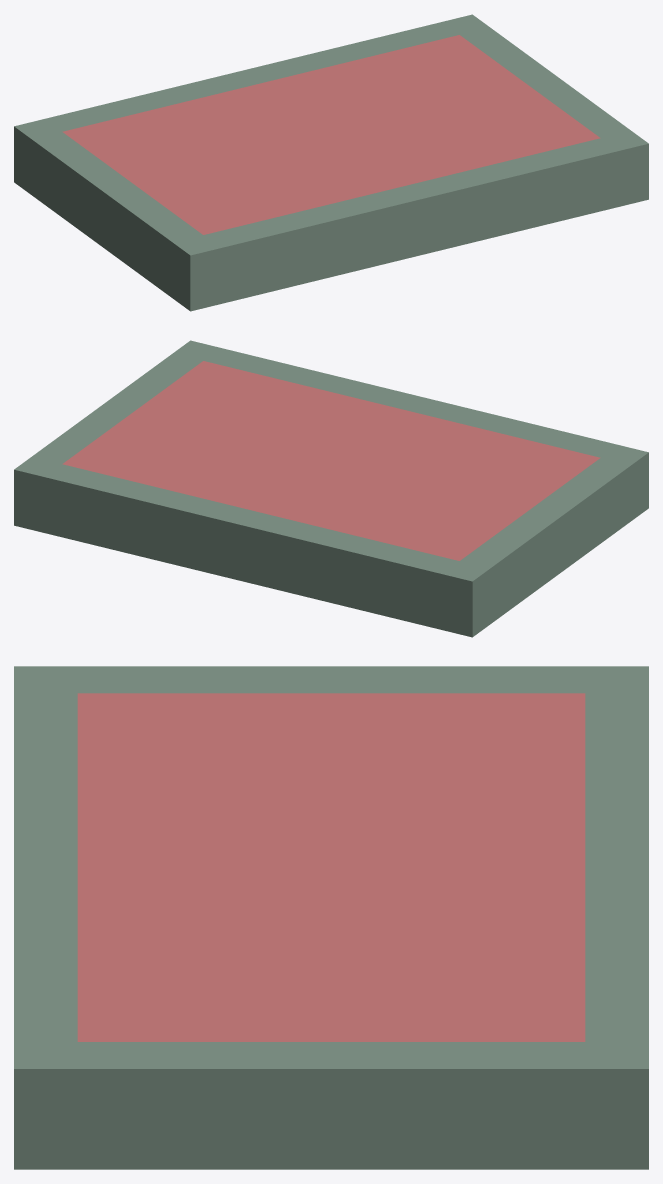
File: step_02.glb
3 views of the same model, one above another, from view 1: azimuth 30°, elevation 25°; view 2: azimuth 150°, elevation 25°; view 3: azimuth 270°, elevation 25° (orthographic). The views are drawn at different scales.
Visible parts, largest first — view 1: part__display, removed__display; view 2: part__display, removed__display; view 3: removed__display, part__display.
Part boxes in pixels (x1,y1,x2,y2): part__display: [14, 14, 648, 311]; removed__display: [62, 35, 600, 234]; part__display: [14, 340, 648, 637]; removed__display: [62, 361, 600, 560]; removed__display: [77, 693, 585, 1041]; part__display: [14, 666, 648, 1169].
Bounding box in the file's own units: 30 × 3.5 × 20.
